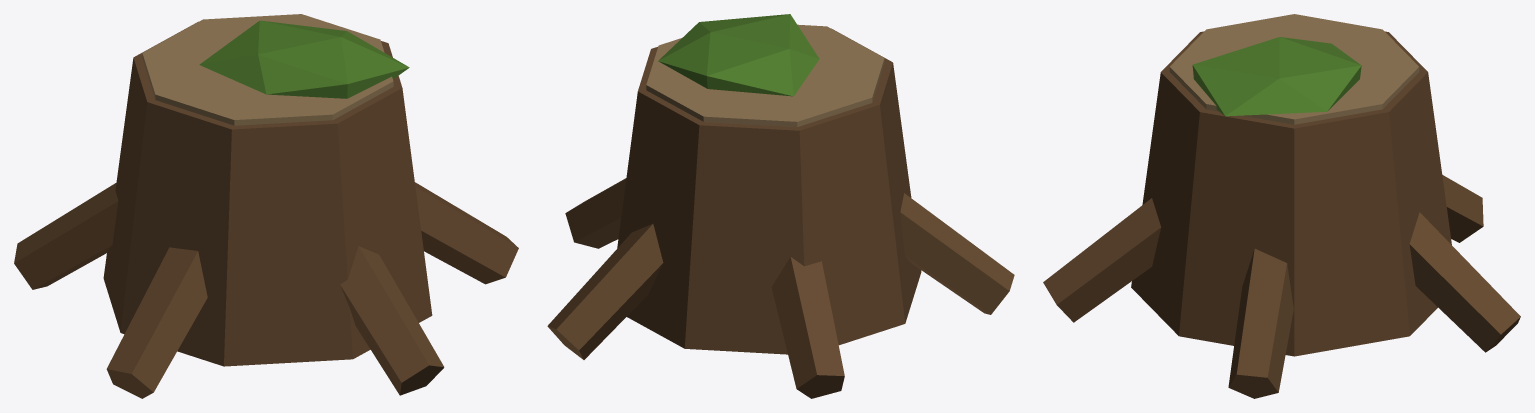
File: tree_stump.glb
3 renders of one model, left to right at view 1: azimuth 30°, elevation 25°; view 2: azimuth 150°, elevation 25°; view 3: azimuth 270°, elevation 25°, orthographic. The views are drawn at different scales.
Parts seen in each view (by area): view 1: bark-col, bark_light, moss; view 2: bark-col, bark_light, moss; view 3: bark-col, bark_light, moss.
Part boxes in pixels (x1,y1,x2,y2): bark-col: (14, 21, 518, 398); bark_light: (142, 14, 393, 125); moss: (199, 20, 409, 98); bark-col: (547, 28, 1014, 398); bark_light: (646, 24, 884, 127); moss: (658, 14, 819, 96); bark-col: (1043, 31, 1520, 398); bark_light: (1169, 14, 1419, 124); moss: (1192, 37, 1361, 116).
Bounding box in the file's own units: 1.62 × 0.9722 × 1.61.
